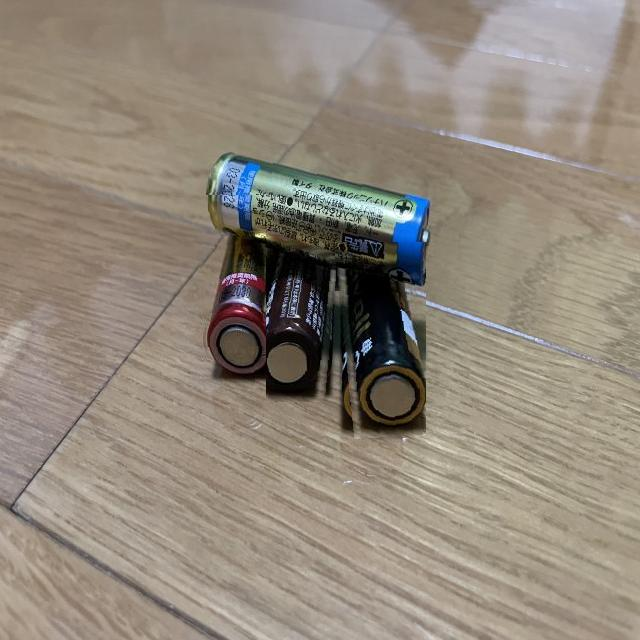battery: (206, 144, 464, 294), (334, 242, 426, 439), (198, 195, 273, 390), (266, 228, 340, 402)
